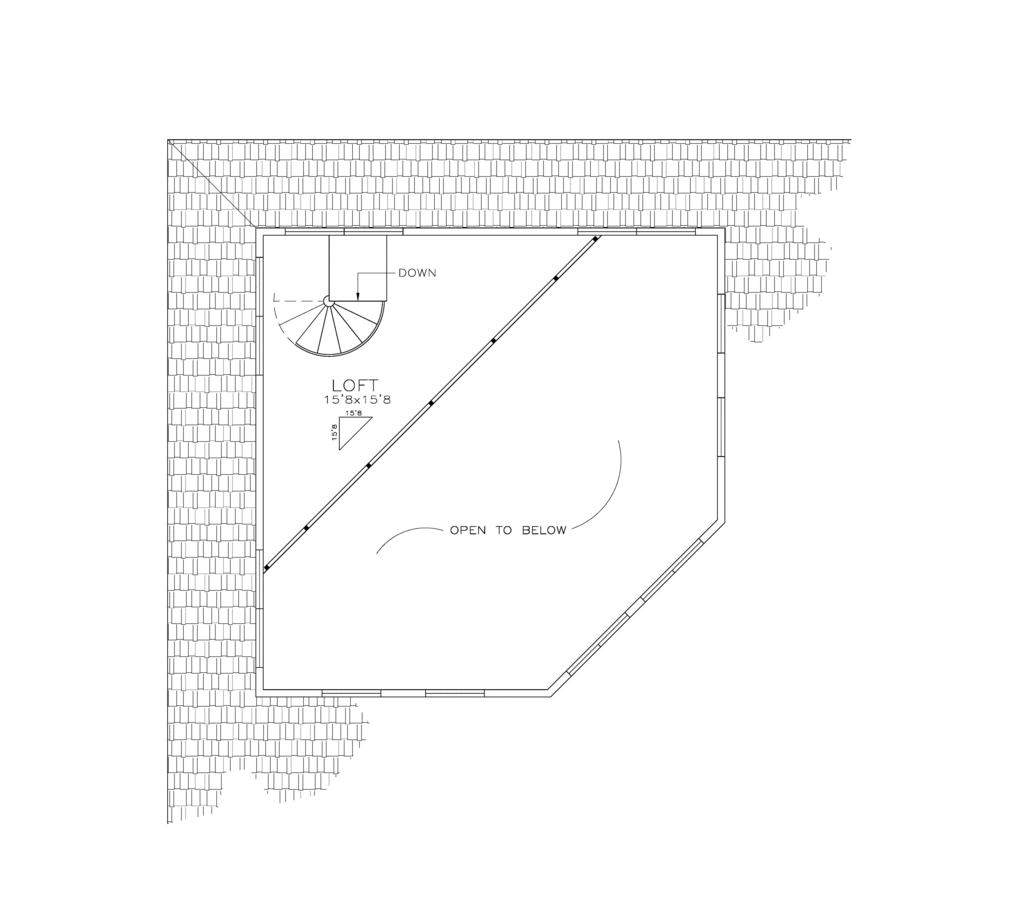stairs: (263, 293, 387, 358)
windows: (571, 224, 702, 242), (279, 224, 406, 240), (709, 389, 729, 461), (717, 292, 729, 360)
